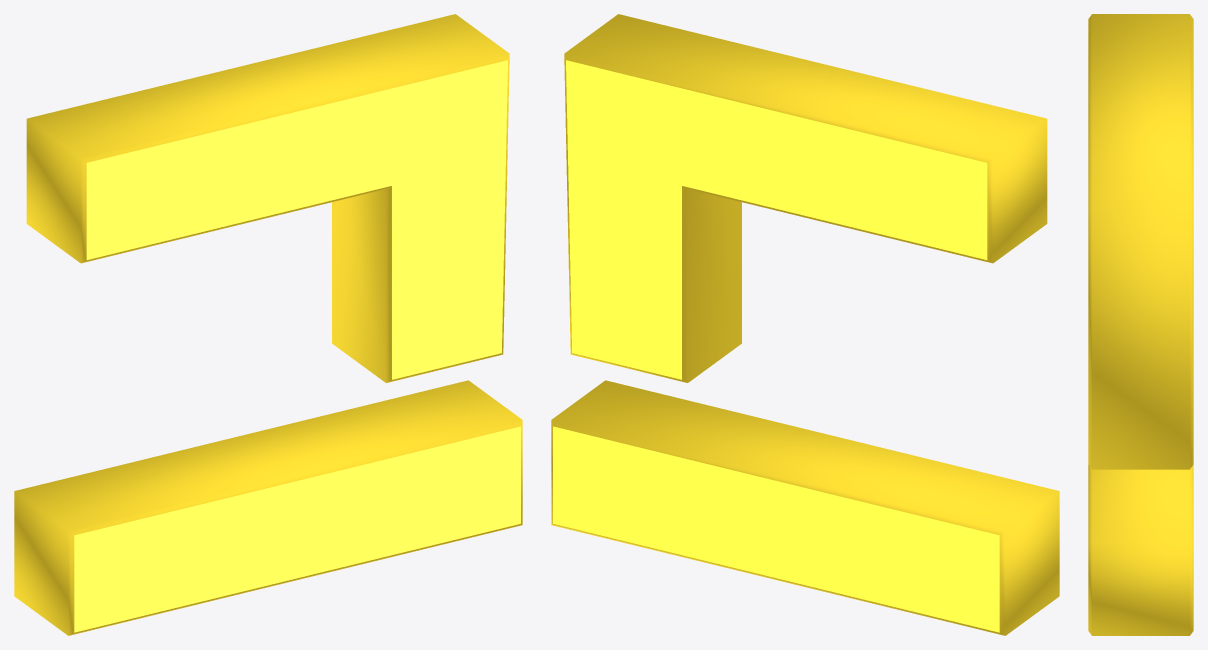
Rendered from u_adf8_y.glb.
3 views of the same model, side by side, from view 1: azimuth 30°, elevation 25°; view 2: azimuth 150°, elevation 25°; view 3: azimuth 270°, elevation 25° (orthographic). The views are drawn at different scales.
Parts seen in each view (by area): view 1: glyph; view 2: glyph; view 3: glyph.
Part boxes in pixels (x1,y1,x2,y2): glyph: (14,14,522,635); glyph: (551,14,1059,635); glyph: (1088,14,1193,635).
Size of the model in its own units: 0.0726 by 0.0725 by 0.0162.
